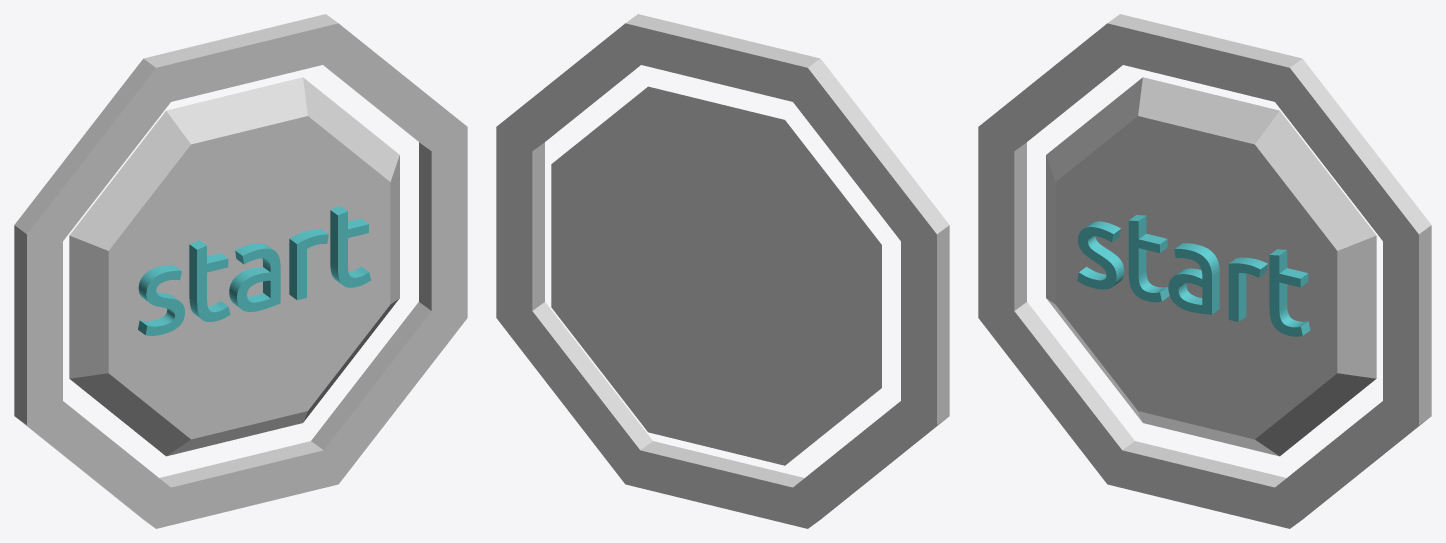
The model's file is button-start.fbx.
3 views of the same model, side by side, from view 1: azimuth 30°, elevation 25°; view 2: azimuth 150°, elevation 25°; view 3: azimuth 330°, elevation 25° (orthographic).
Visible parts, largest first — view 1: Circle.001, Circle, Text; view 2: Circle.001, Circle; view 3: Circle.001, Circle, Text.
Boxes of the visible parts, x1,y1,x2,y2 form: Circle.001: [69, 77, 399, 456]; Circle: [14, 14, 467, 528]; Text: [138, 206, 370, 335]; Circle.001: [551, 86, 881, 465]; Circle: [496, 14, 949, 528]; Circle.001: [1046, 77, 1376, 456]; Circle: [978, 14, 1431, 528]; Text: [1077, 215, 1310, 336].
Bounding box in the file's own units: 185 × 185 × 16.42.
